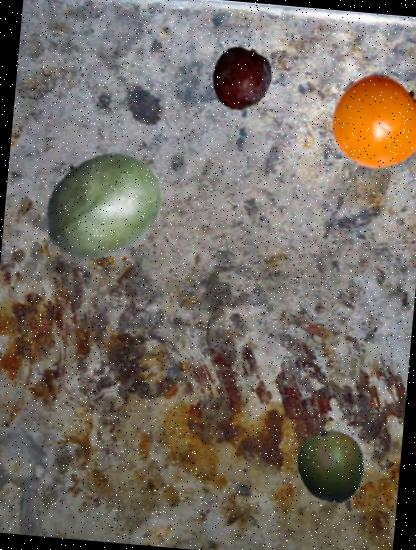Lychee: (82, 170, 150, 237)
Mango: (36, 138, 170, 272), (289, 426, 372, 508)
Plum: (205, 43, 277, 115)
Tomato: (325, 70, 416, 176)
